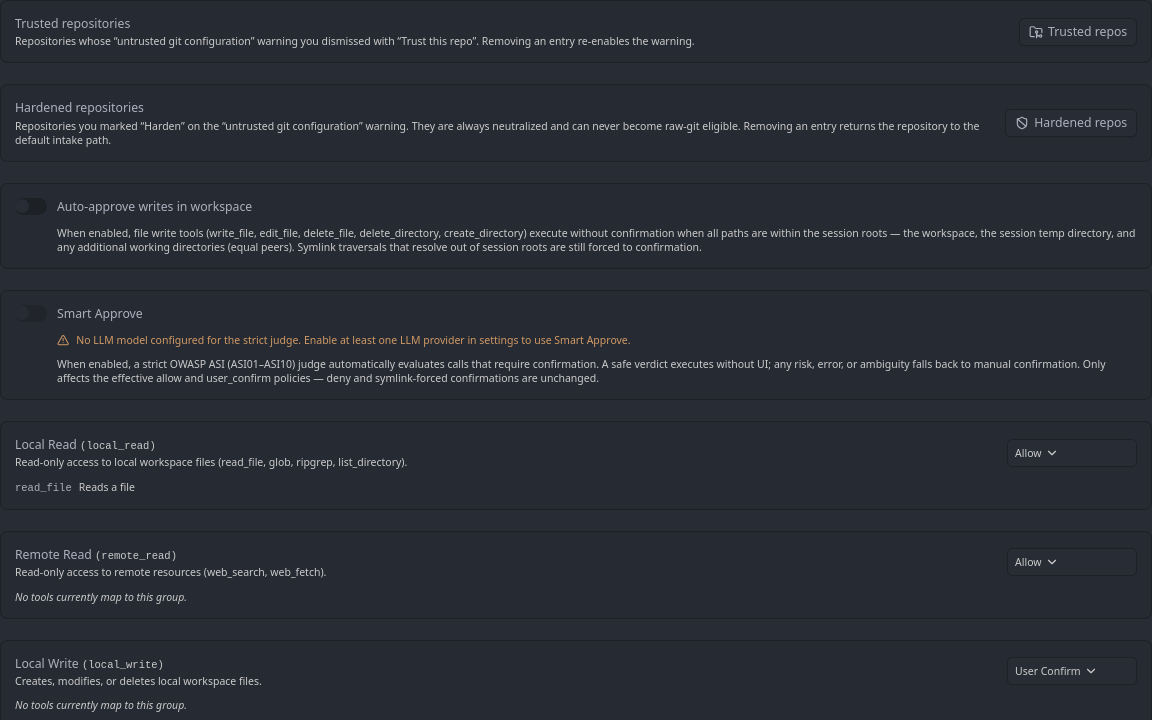
Scenario: SecuritySettings — group schema › opens the hardened repositories dialog from the Hardened repos button
Click the button with test id "harden-repos-open" at x=1071, y=123, box [1005,109,1137,137]
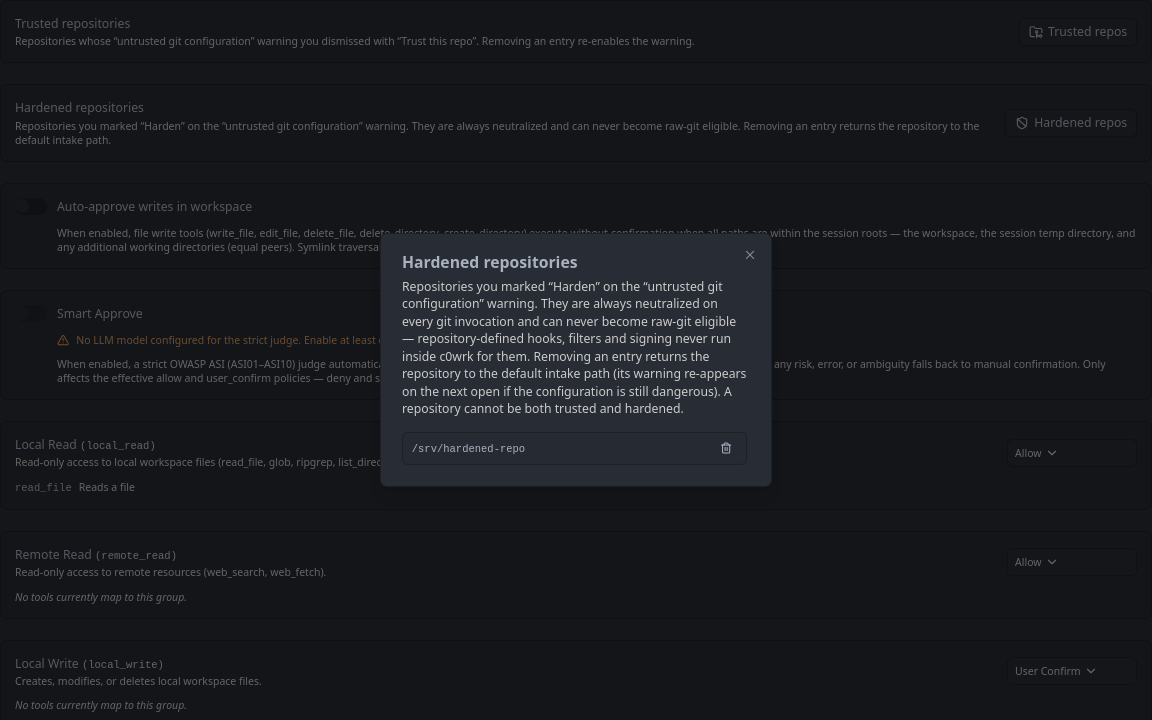
Now the dialog with test id "harden-repos-dialog" shows "/srv/hardened-repo", box [412,442,525,454]
